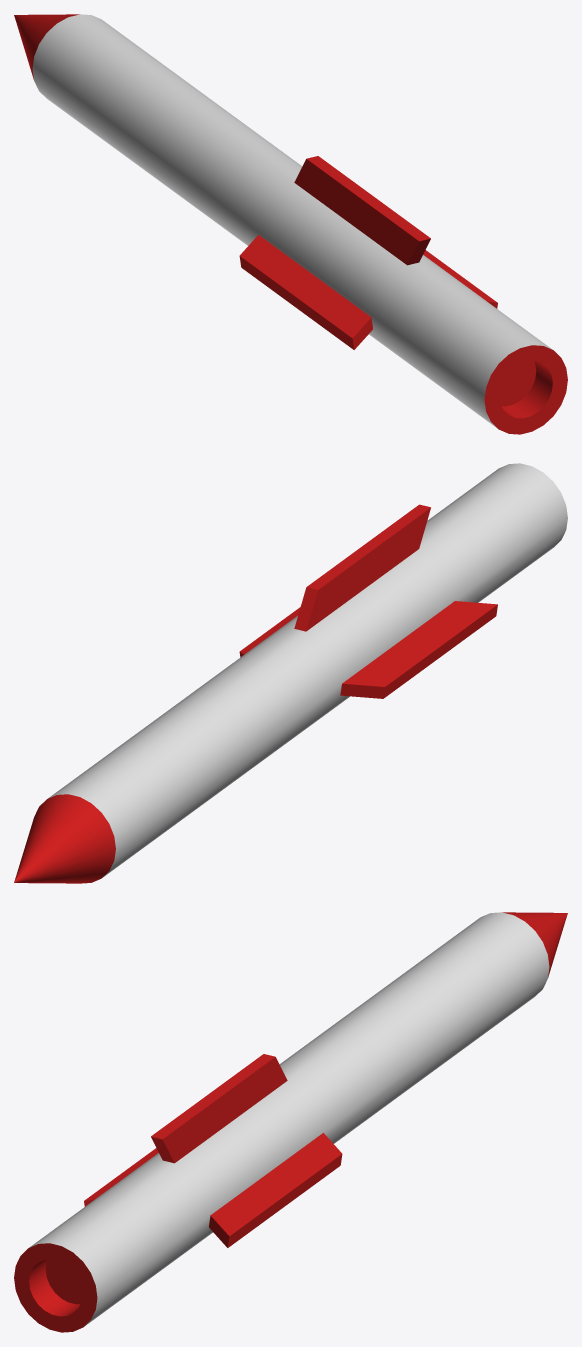
File: Rocket_Missle.fbx
The picture shows the model from 3 angles, top to bottom: view 1: azimuth 30°, elevation 25°; view 2: azimuth 150°, elevation 25°; view 3: azimuth 330°, elevation 25°; orthographic projection.
Parts seen in each view (by area): view 1: Cylinder, Cone; view 2: Cylinder, Cone; view 3: Cylinder, Cone.
Boxes of the visible parts, x1,y1,x2,y2 form: Cylinder: (32,14,567,434); Cone: (14,14,79,79); Cylinder: (47,463,567,877); Cone: (14,794,115,883); Cylinder: (14,912,549,1332); Cone: (502,912,567,977).
Bounding box in the file's own units: 13.94 × 10.92 × 85.
